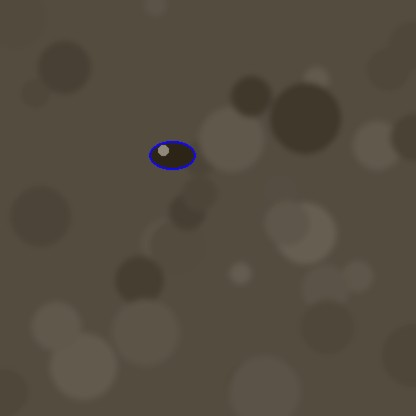gota: (149, 142, 195, 172)
